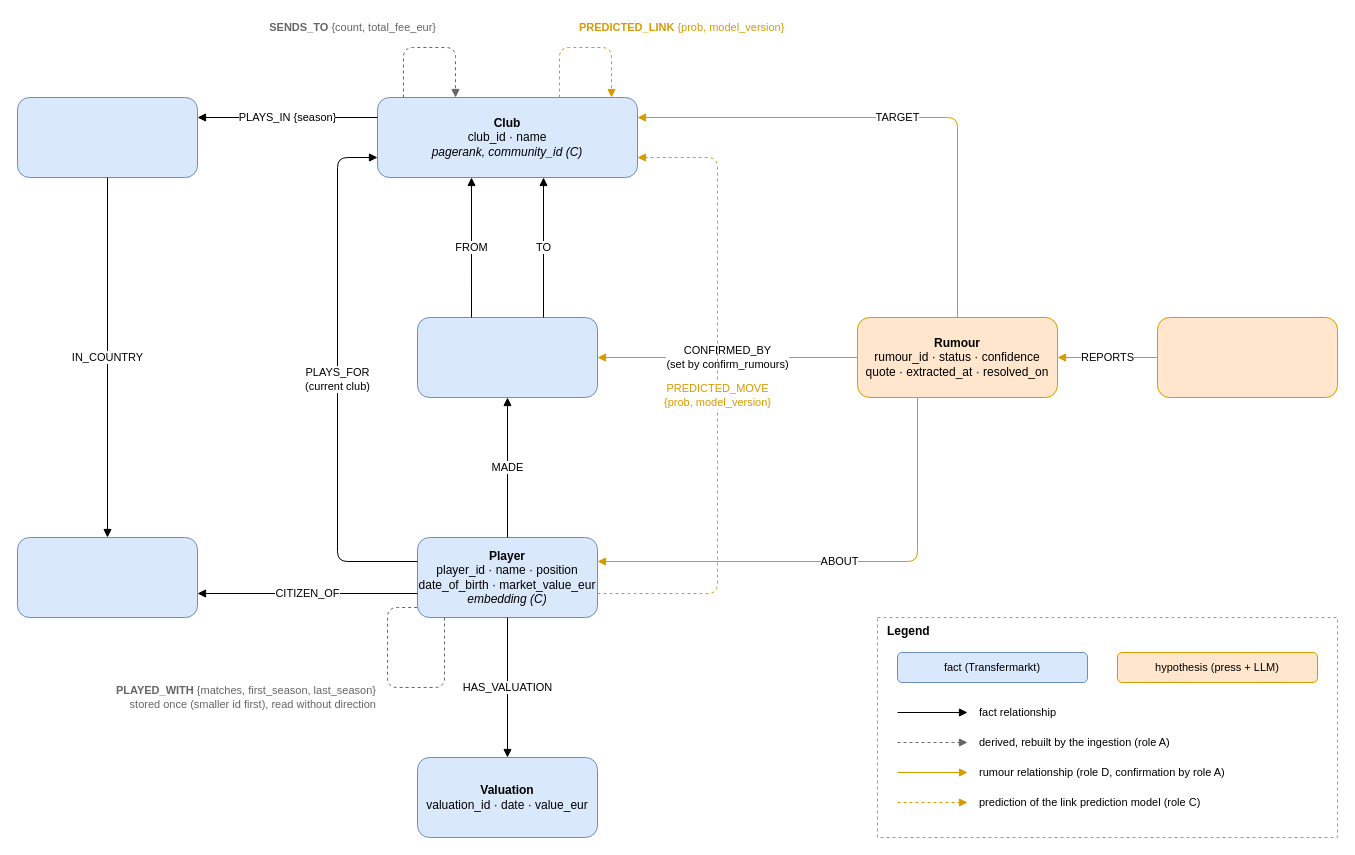
The diagram is 1355 pixels wide and 855 high, and some of its shapes have lost their labels. The centre of each missing label's shape, as x and y in pixels:
"Article url · source · title published_at" goes at [1247,357].
"Competition competition_id · name" goes at [107,137].
"Country code (FIFA) · name" goes at [107,577].
"Transfer transfer_id · date · season fee_eur · is_loan" goes at [507,357].
